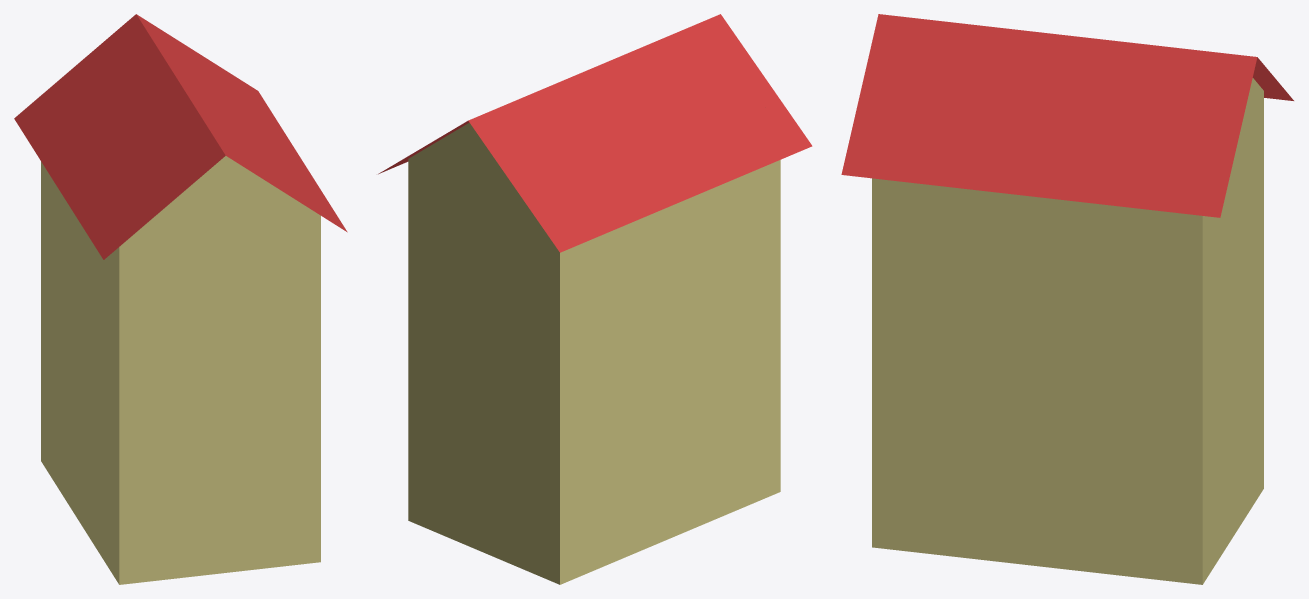
3 renders of one model, left to right at view 1: azimuth 30°, elevation 25°; view 2: azimuth 150°, elevation 25°; view 3: azimuth 270°, elevation 25°, orthographic. The views are drawn at different scales.
Bounding box in the file's own units: 7.56 × 9.07 × 10.65.
